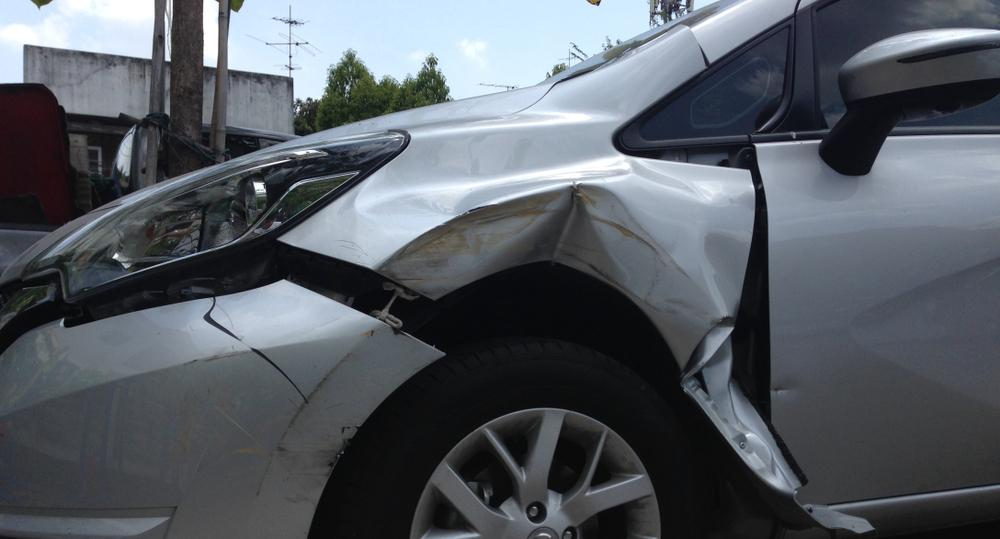dent: (357, 123, 630, 219), (684, 327, 797, 494), (488, 193, 630, 284), (571, 185, 669, 302), (702, 236, 749, 317)
scratch: (197, 295, 355, 514)
